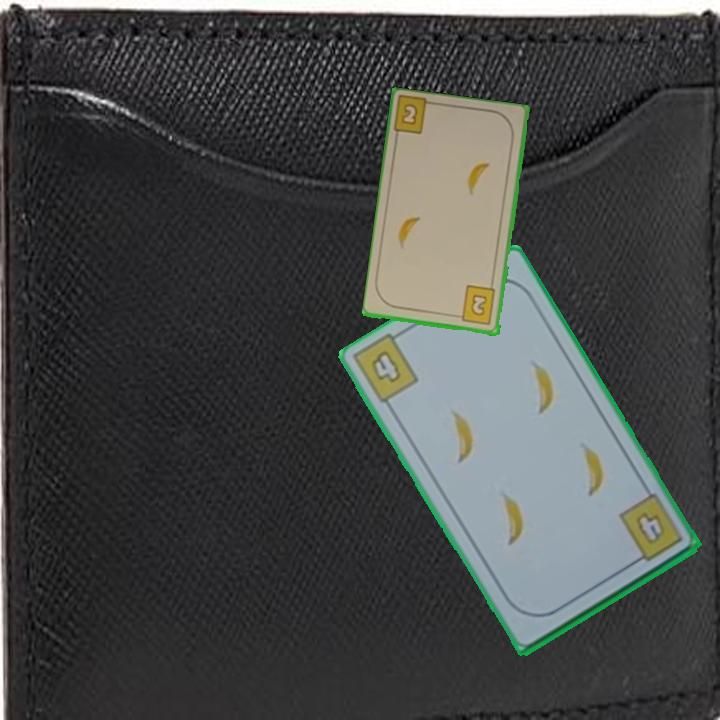2b: (453, 283, 499, 328), (398, 100, 421, 128)
4b: (615, 490, 686, 569), (367, 346, 404, 386)
